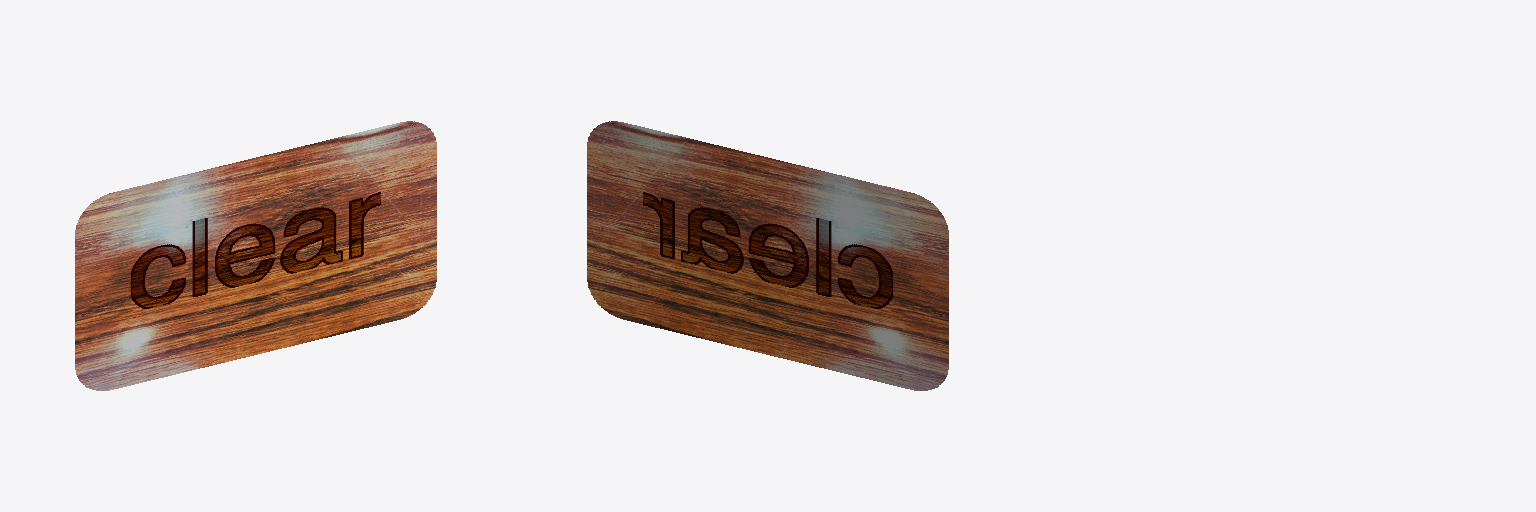
The picture shows the model from 3 angles: view 1: azimuth 30°, elevation 25°; view 2: azimuth 150°, elevation 25°; view 3: azimuth 270°, elevation 25°; orthographic projection.
Visible parts, largest first — view 1: Plane; view 2: Plane; view 3: none.
Part boxes in pixels (x1,y1,x2,y2): Plane: (75,121,436,390); Plane: (587,121,948,390).
Size of the model in its own units: 1.5 by 0.7828 by 0.
Materials: 1 (1 with a texture image).